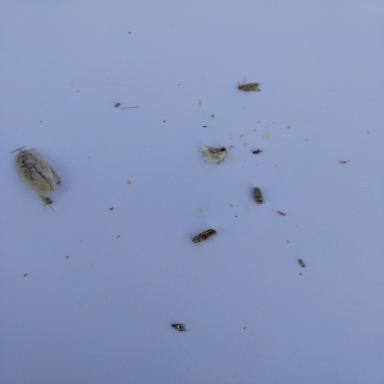pbw: (233, 75, 264, 96)
